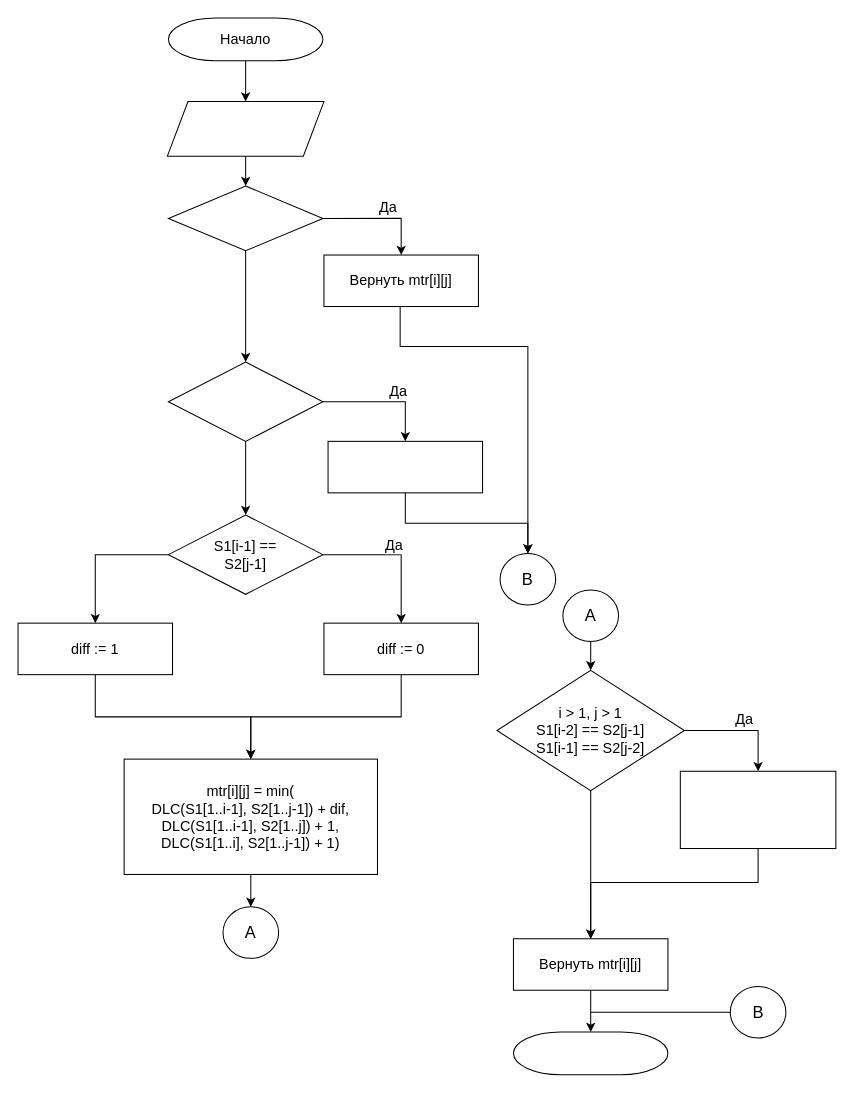
Some shapes in this 854 by 1093 pixel diagram are drawn without their labels. Each missing label, with the centre of its shape:
i := длина S1 j := длина S2: the point at 245,128
min(i, j) == 0: the point at 245,401
mtr[i][j] = min( mtr[i][j], DLС(S1[1..i-2], S2[1..j-2]) + 1): the point at 757,809
mtr[i][j] ≥ 0: the point at 245,218
Вернуть max (i, j): the point at 405,466
Конец: the point at 590,1053
